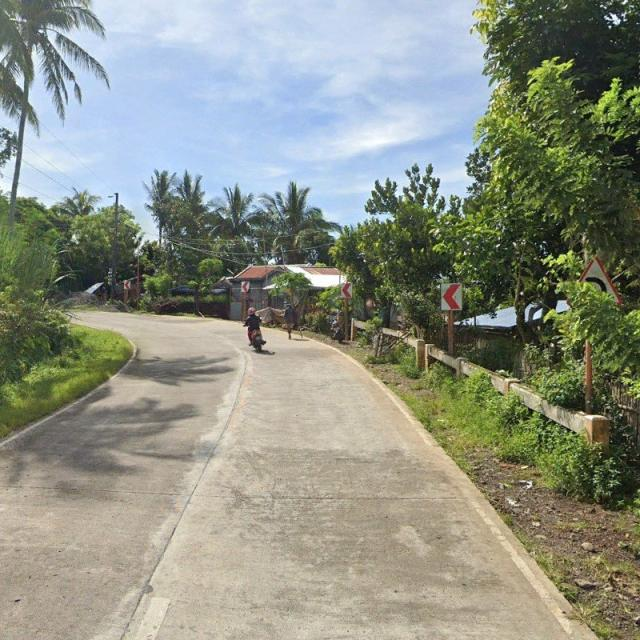warn_left_curve: (566, 256, 622, 305)
